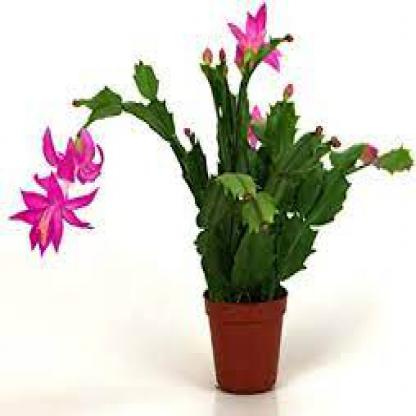Holiday Cactus: (7, 1, 416, 319)
